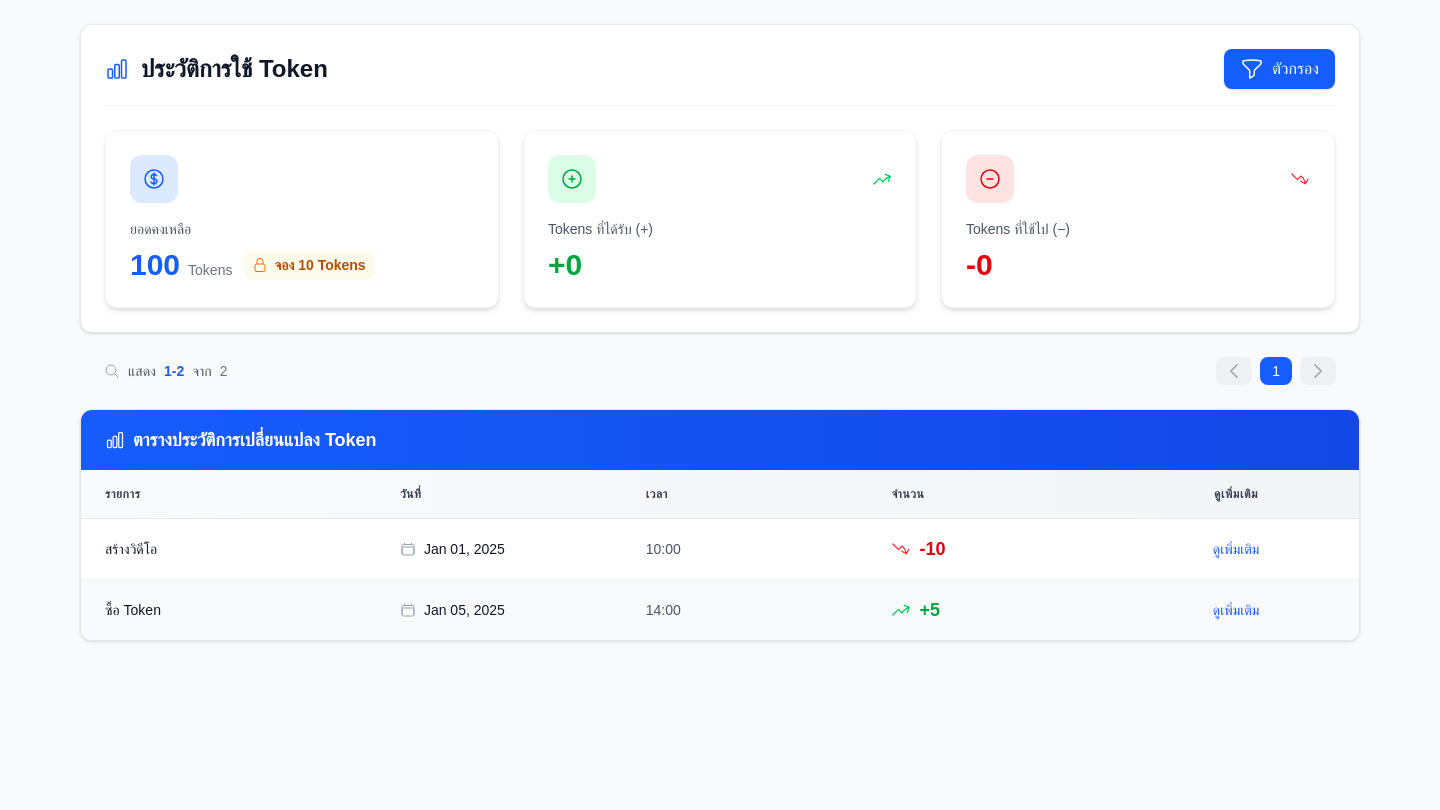
Test: TokenHistoryPage › ควรแสดงรายละเอียดเมื่อคลิกที่รายการ
Expected: the text "สร้างวิดีโอ" is shown, [105,541,157,557]
Click the text "สร้างวิดีโอ". click: x=720, y=549
box: [81,518,1359,580]
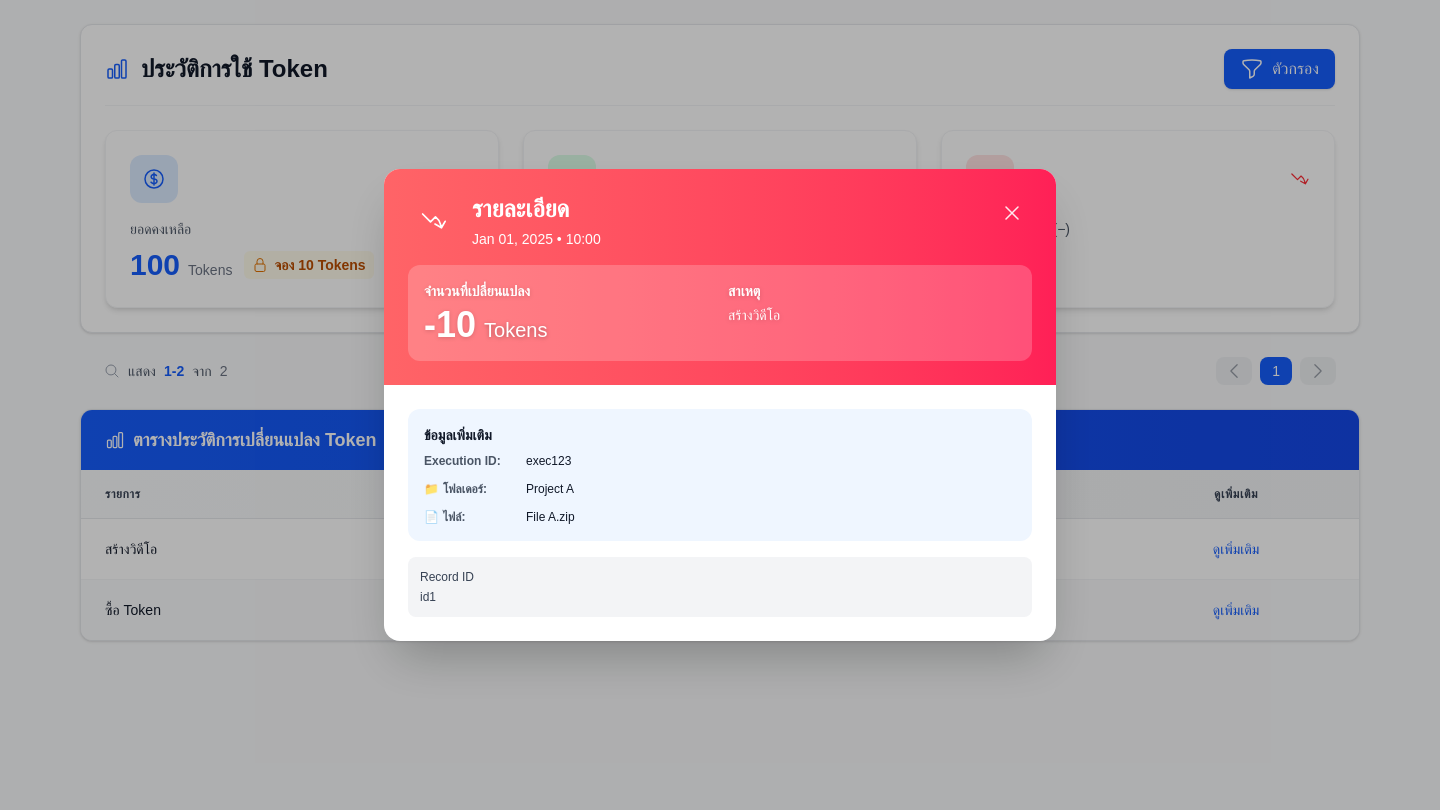
Now the heading "รายละเอียด" is shown, box [472,195,569,222]
Now the text "Project A" is shown, box [526,482,574,496]
Now the text "File A.zip" is shown, box [526,510,575,524]
